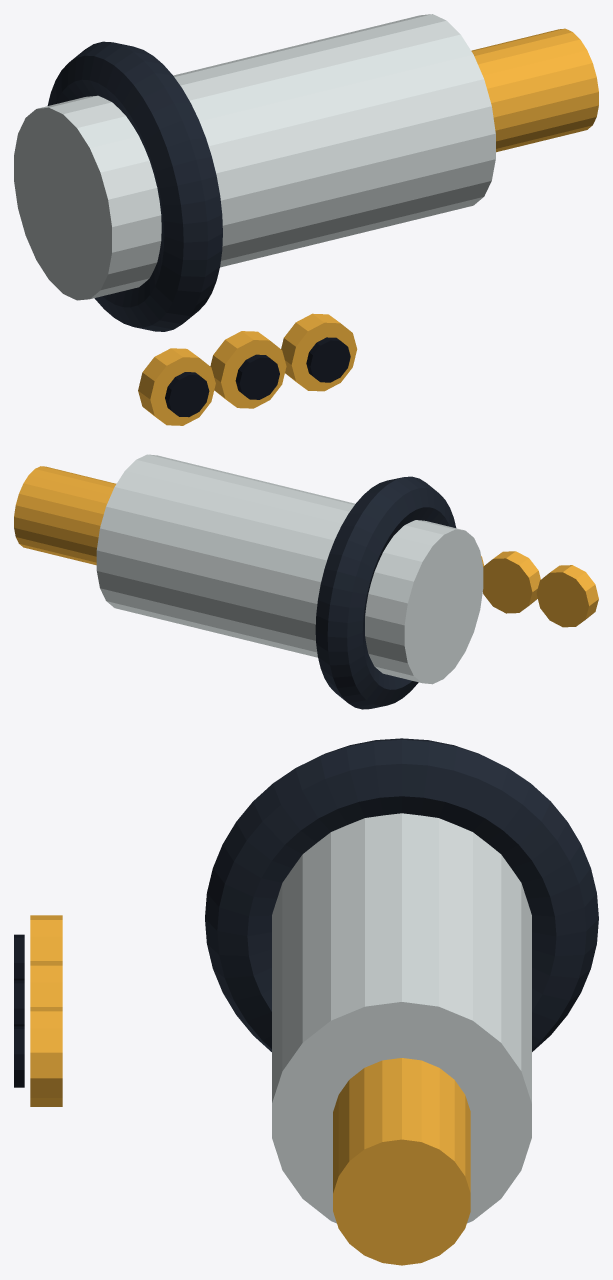
Rendered from 40_L86_PrecisionTorqueFasteningDriver.fbx.
3 views of the same model, one above another, from view 1: azimuth 30°, elevation 25°; view 2: azimuth 150°, elevation 25°; view 3: azimuth 270°, elevation 25° (orthographic). The views are drawn at different scales.
Parts seen in each view (by area): view 1: L86_PrecisionTorqueFasteningDriver_Part_0000, L86_PrecisionTorqueFasteningDriver_Part_0002, L86_PrecisionTorqueFasteningDriver_Part_0001, L86_PrecisionTorqueFasteningDriver_Part_0003, L86_PrecisionTorqueFasteningDriver_Part_0005, L86_PrecisionTorqueFasteningDriver_Part_0007, L86_PrecisionTorqueFasteningDriver_Part_0008, L86_PrecisionTorqueFasteningDriver_Part_0006, L86_PrecisionTorqueFasteningDriver_Part_0004; view 2: L86_PrecisionTorqueFasteningDriver_Part_0000, L86_PrecisionTorqueFasteningDriver_Part_0002, L86_PrecisionTorqueFasteningDriver_Part_0001, L86_PrecisionTorqueFasteningDriver_Part_0003, L86_PrecisionTorqueFasteningDriver_Part_0005; view 3: L86_PrecisionTorqueFasteningDriver_Part_0000, L86_PrecisionTorqueFasteningDriver_Part_0002, L86_PrecisionTorqueFasteningDriver_Part_0001, L86_PrecisionTorqueFasteningDriver_Part_0007, L86_PrecisionTorqueFasteningDriver_Part_0003, L86_PrecisionTorqueFasteningDriver_Part_0005, L86_PrecisionTorqueFasteningDriver_Part_0008.
Part boxes in pixels (x1,y1,x2,y2): L86_PrecisionTorqueFasteningDriver_Part_0000: (14,14,495,300); L86_PrecisionTorqueFasteningDriver_Part_0002: (47,41,222,331); L86_PrecisionTorqueFasteningDriver_Part_0001: (471,28,598,152); L86_PrecisionTorqueFasteningDriver_Part_0003: (138,348,215,425); L86_PrecisionTorqueFasteningDriver_Part_0005: (210,331,286,408); L86_PrecisionTorqueFasteningDriver_Part_0007: (281,313,357,391); L86_PrecisionTorqueFasteningDriver_Part_0008: (306,337,350,382); L86_PrecisionTorqueFasteningDriver_Part_0006: (235,354,279,399); L86_PrecisionTorqueFasteningDriver_Part_0004: (165,372,209,417); L86_PrecisionTorqueFasteningDriver_Part_0000: (96,454,483,684); L86_PrecisionTorqueFasteningDriver_Part_0002: (315,476,456,709); L86_PrecisionTorqueFasteningDriver_Part_0001: (14,466,116,565); L86_PrecisionTorqueFasteningDriver_Part_0003: (536,565,598,627); L86_PrecisionTorqueFasteningDriver_Part_0005: (483,551,540,613); L86_PrecisionTorqueFasteningDriver_Part_0000: (272,813,531,1223); L86_PrecisionTorqueFasteningDriver_Part_0002: (205,738,598,1051); L86_PrecisionTorqueFasteningDriver_Part_0001: (333,1058,470,1265); L86_PrecisionTorqueFasteningDriver_Part_0007: (30,1007,62,1106); L86_PrecisionTorqueFasteningDriver_Part_0003: (30,915,62,961); L86_PrecisionTorqueFasteningDriver_Part_0005: (30,961,62,1006); L86_PrecisionTorqueFasteningDriver_Part_0008: (14,1026,24,1087).
Bounding box in the file's own units: 112 × 51 × 75.7.
